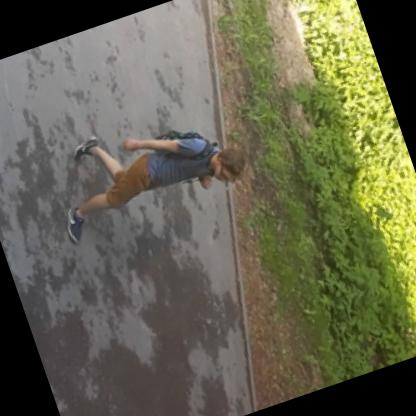Human Body: (37, 86, 260, 251)
